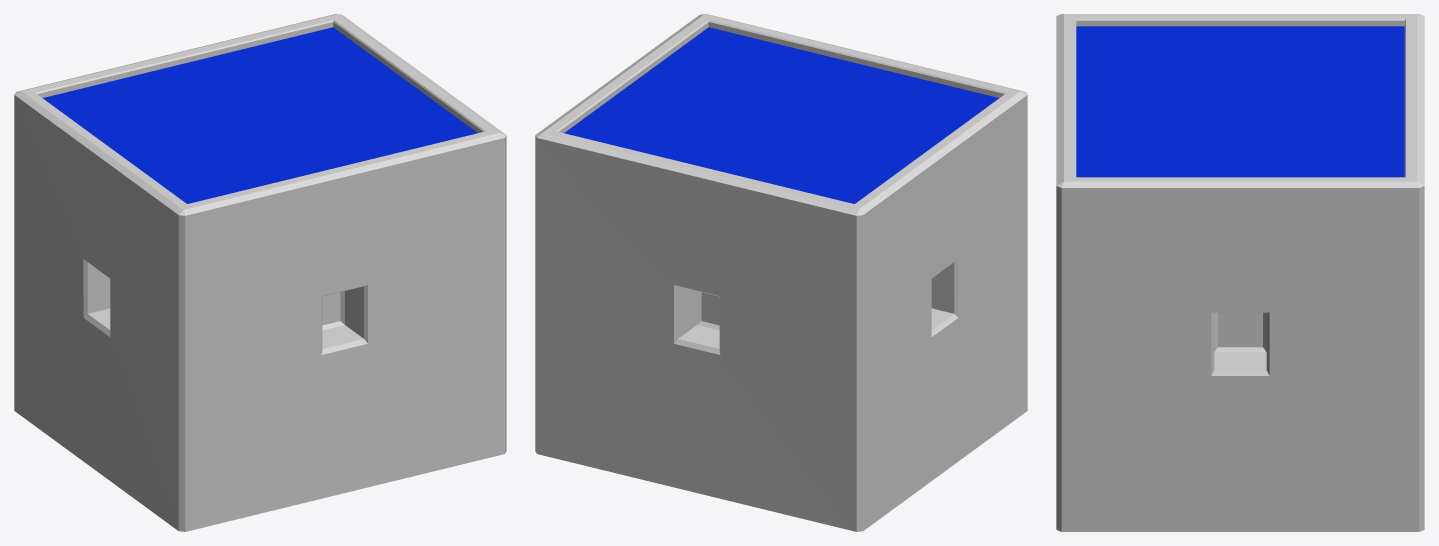
The model's file is NumberOnly.fbx.
3 views of the same model, side by side, from view 1: azimuth 30°, elevation 25°; view 2: azimuth 150°, elevation 25°; view 3: azimuth 270°, elevation 25° (orthographic). The views are drawn at different scales.
Parts seen in each view (by area): view 1: Cube.002; view 2: Cube.002; view 3: Cube.002.
Part boxes in pixels (box(x1,y1,x2,y2)): Cube.002: box(14, 14, 506, 531); Cube.002: box(535, 14, 1027, 531); Cube.002: box(1056, 14, 1424, 531).
Size of the model in its own units: 142 by 132 by 127.
